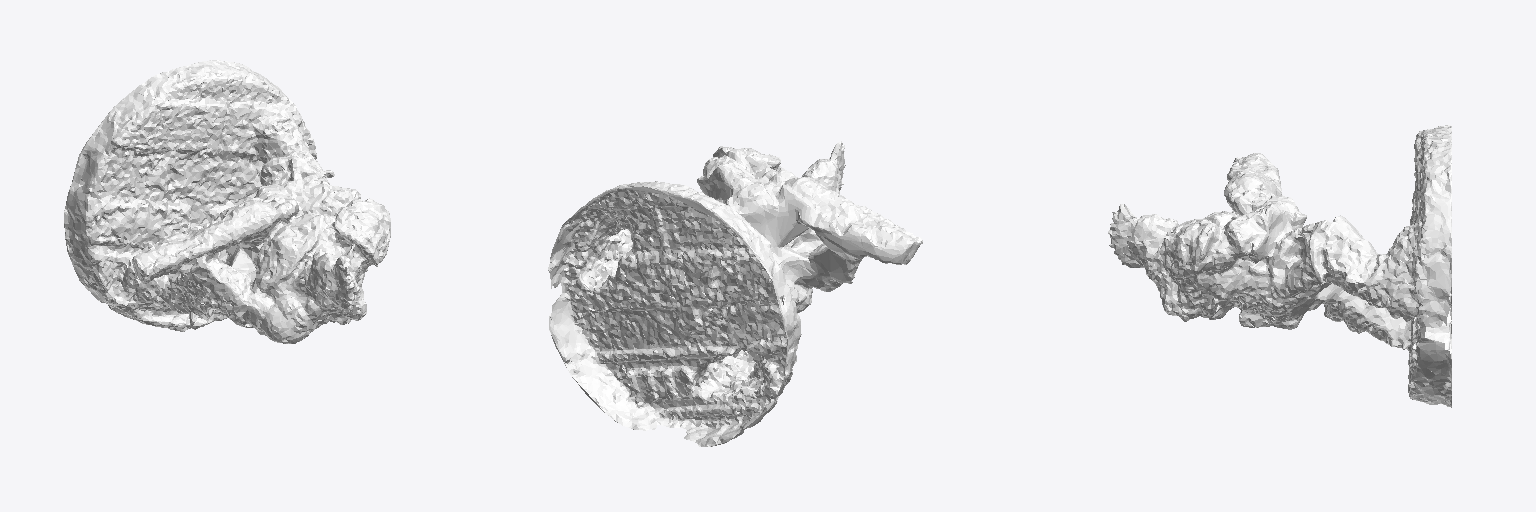
The model's file is Goliaths_7_zephyr.obj.
3 renders of one model, left to right at view 1: azimuth 30°, elevation 25°; view 2: azimuth 150°, elevation 25°; view 3: azimuth 270°, elevation 25°, orthographic.
Parts seen in each view (by area): view 1: Group_Global; view 2: Group_Global; view 3: Group_Global.
Part boxes in pixels (bbox=[...]): Group_Global: bbox=[64, 60, 390, 343]; Group_Global: bbox=[548, 141, 922, 446]; Group_Global: bbox=[1108, 125, 1451, 407].
Size of the model in its own units: 7.51 by 6.68 by 8.36.